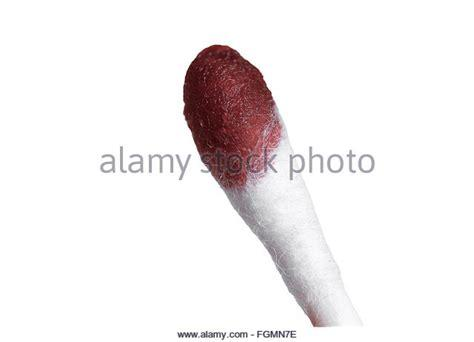cotton: (180, 41, 357, 310)
